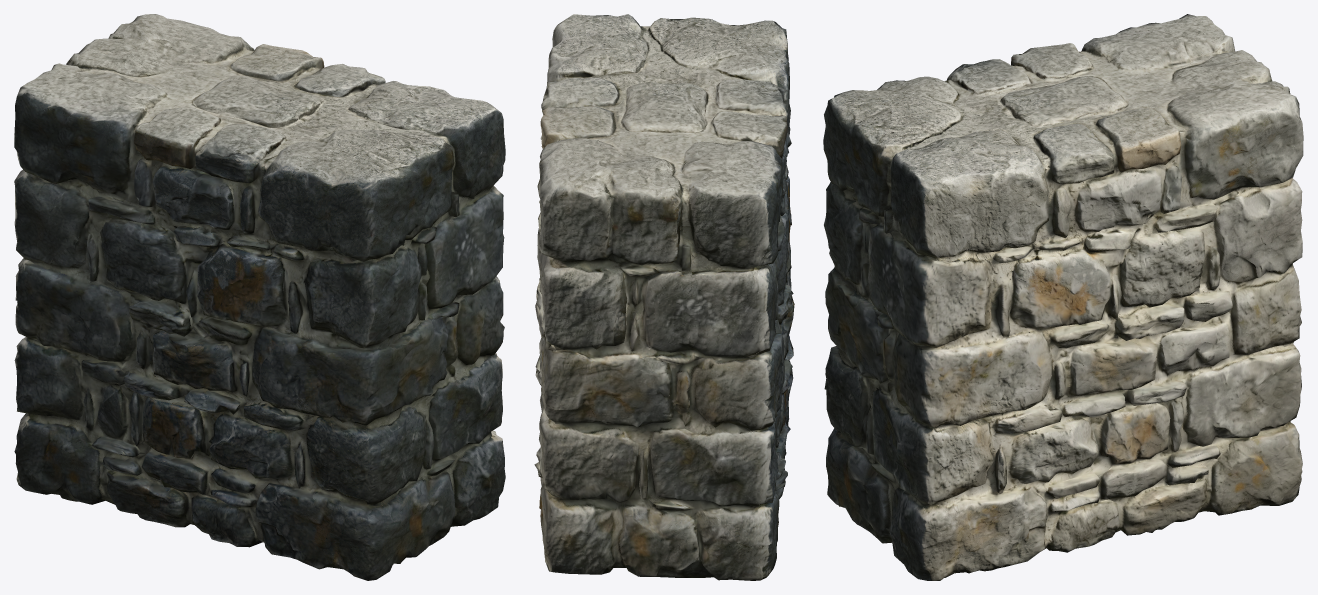
The picture shows the model from 3 angles, left to right: view 1: azimuth 30°, elevation 25°; view 2: azimuth 150°, elevation 25°; view 3: azimuth 270°, elevation 25°; orthographic projection. The views are drawn at different scales.
Parts seen in each view (by area): view 1: tripo_node_19eaae85-3d81-4cb3-a0b0-1f6871abe56d; view 2: tripo_node_19eaae85-3d81-4cb3-a0b0-1f6871abe56d; view 3: tripo_node_19eaae85-3d81-4cb3-a0b0-1f6871abe56d.
Boxes of the visible parts, box(x1,y1,x2,y2) form: tripo_node_19eaae85-3d81-4cb3-a0b0-1f6871abe56d: box(14, 14, 505, 580); tripo_node_19eaae85-3d81-4cb3-a0b0-1f6871abe56d: box(534, 14, 794, 580); tripo_node_19eaae85-3d81-4cb3-a0b0-1f6871abe56d: box(823, 14, 1303, 580).
Size of the model in its own units: 0.8438 by 0.9159 by 0.9807.
Materials: 1 (1 with a texture image).
